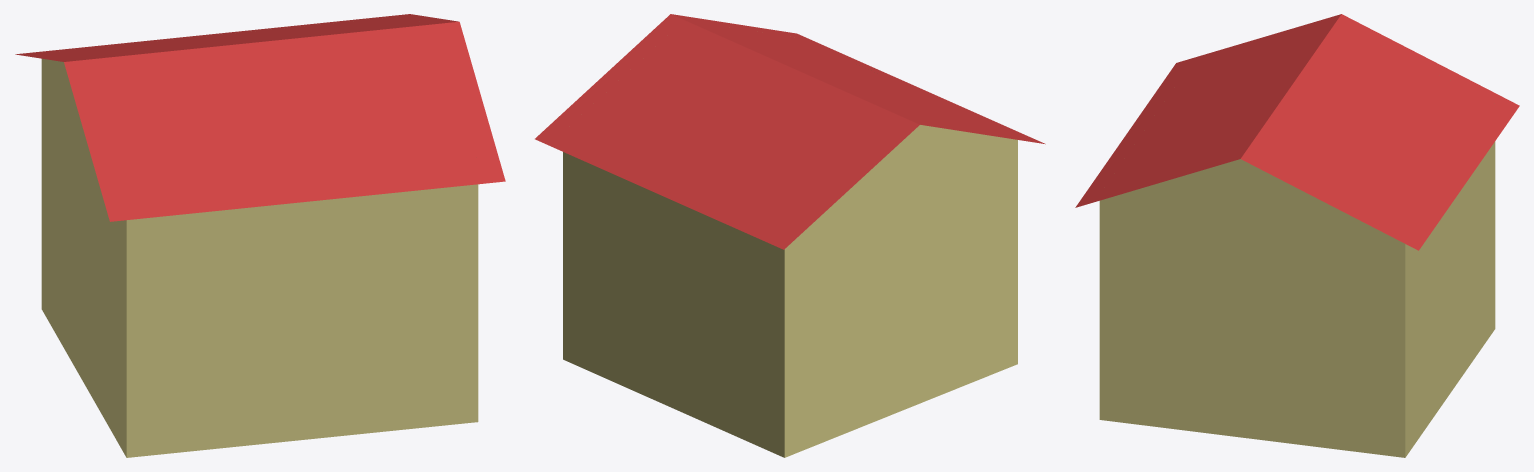
The picture shows the model from 3 angles, left to right: view 1: azimuth 30°, elevation 25°; view 2: azimuth 150°, elevation 25°; view 3: azimuth 270°, elevation 25°; orthographic projection. The views are drawn at different scales.
Visible parts, largest first — view 1: group_5, group_3, group_4; view 2: group_5, group_3, group_4; view 3: group_5, group_3, group_4.
Boxes of the visible parts, bbox=[...] form: group_5: bbox=[41, 58, 478, 457]; group_3: bbox=[43, 17, 478, 221]; group_4: bbox=[15, 14, 505, 221]; group_5: bbox=[563, 125, 1017, 457]; group_3: bbox=[563, 14, 1041, 230]; group_4: bbox=[535, 14, 1044, 249]; group_5: bbox=[1099, 141, 1495, 457]; group_3: bbox=[1100, 14, 1494, 232]; group_4: bbox=[1075, 14, 1519, 250].
Size of the model in its own units: 16.76 by 16.77 by 11.95.
